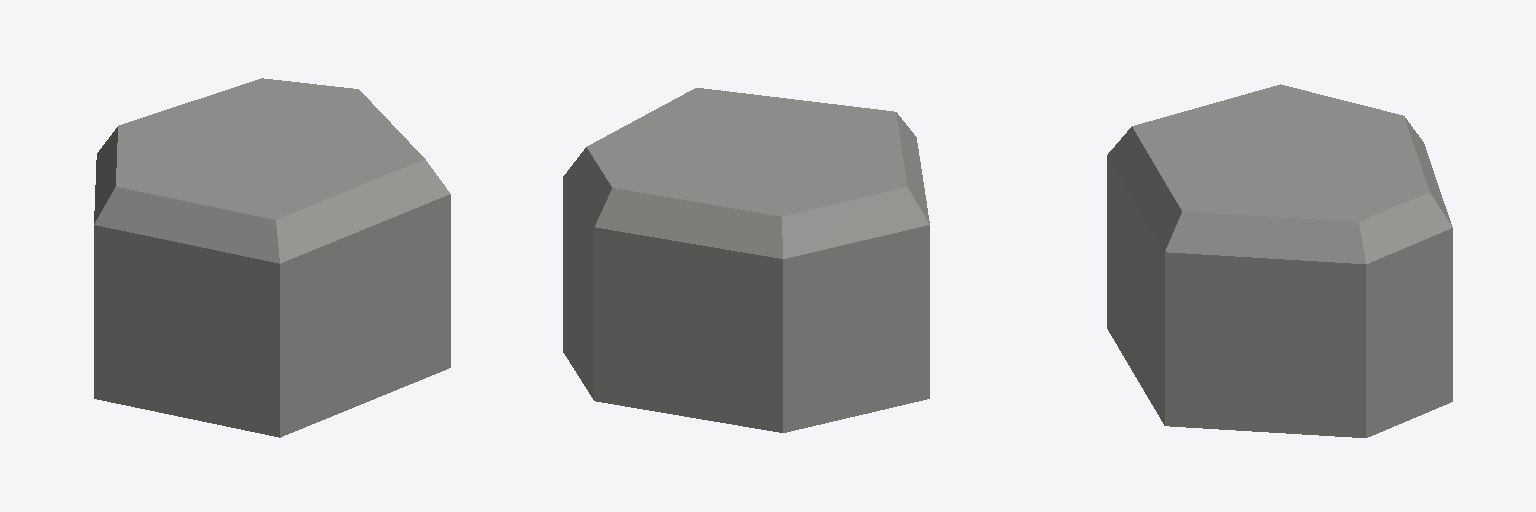
Rendered from Hilly_Prop_Stepping_Stones_5.obj.
3 renders of one model, left to right at view 1: azimuth 30°, elevation 25°; view 2: azimuth 150°, elevation 25°; view 3: azimuth 270°, elevation 25°, orthographic.
Visible parts, largest first — view 1: object1; view 2: object1; view 3: object1.
Boxes of the visible parts, x1=… form: object1: x1=94, y1=78, x2=450, y2=437; object1: x1=563, y1=88, x2=929, y2=432; object1: x1=1107, y1=84, x2=1452, y2=437.
Bounding box in the file's own units: 0.39 × 0.2375 × 0.36.